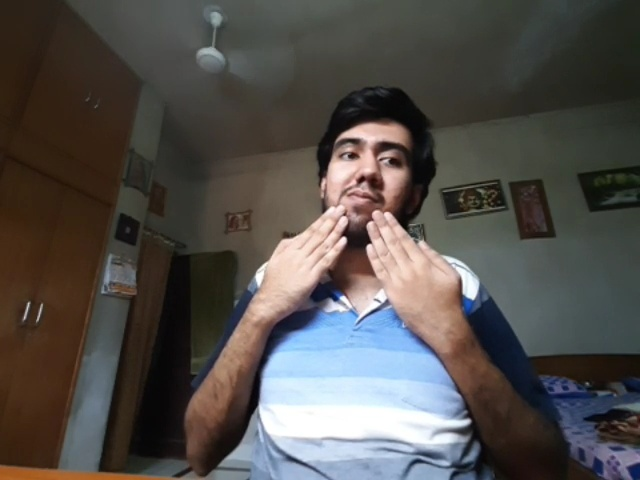ThankYou: (261, 206, 463, 334)
